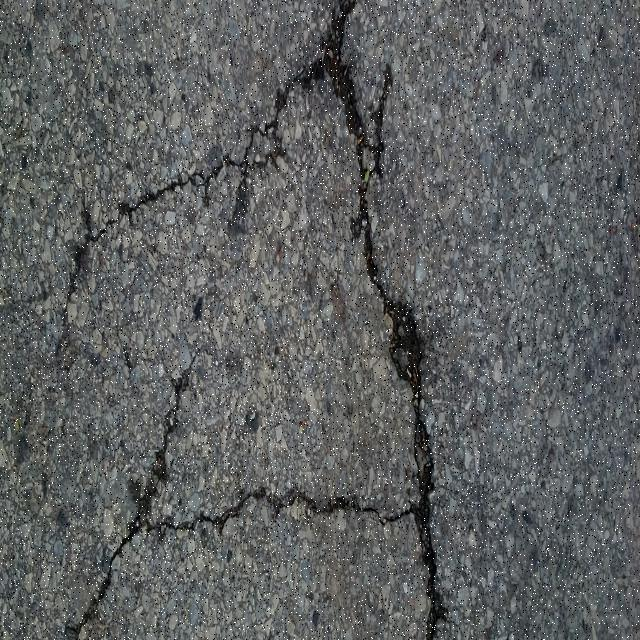Crack: (62, 0, 447, 640)
